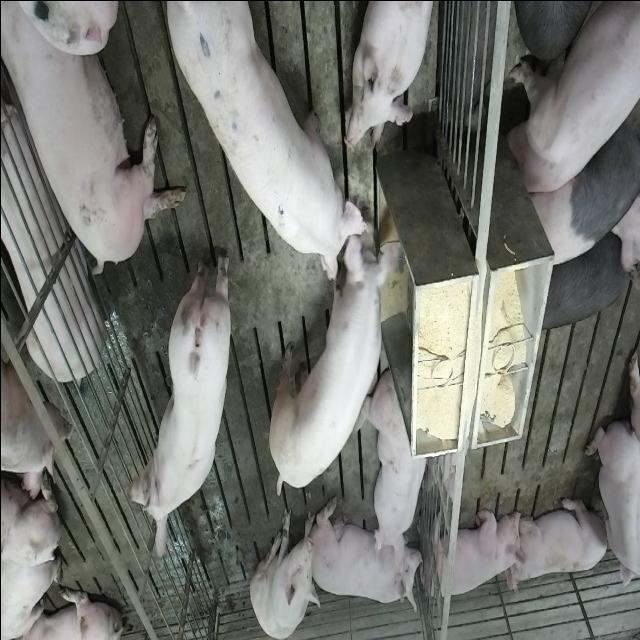Lateral_lying: (3, 4, 187, 278), (0, 92, 102, 382)
Sitting: (249, 504, 319, 636)
Standing: (158, 5, 374, 286), (272, 216, 406, 500), (125, 243, 231, 560), (504, 0, 638, 200), (524, 89, 638, 272), (0, 301, 69, 497), (534, 228, 628, 334)
Sternal_lying: (348, 0, 438, 150), (366, 366, 431, 558), (313, 504, 422, 612), (425, 502, 525, 602), (584, 416, 638, 600), (510, 491, 610, 589)
